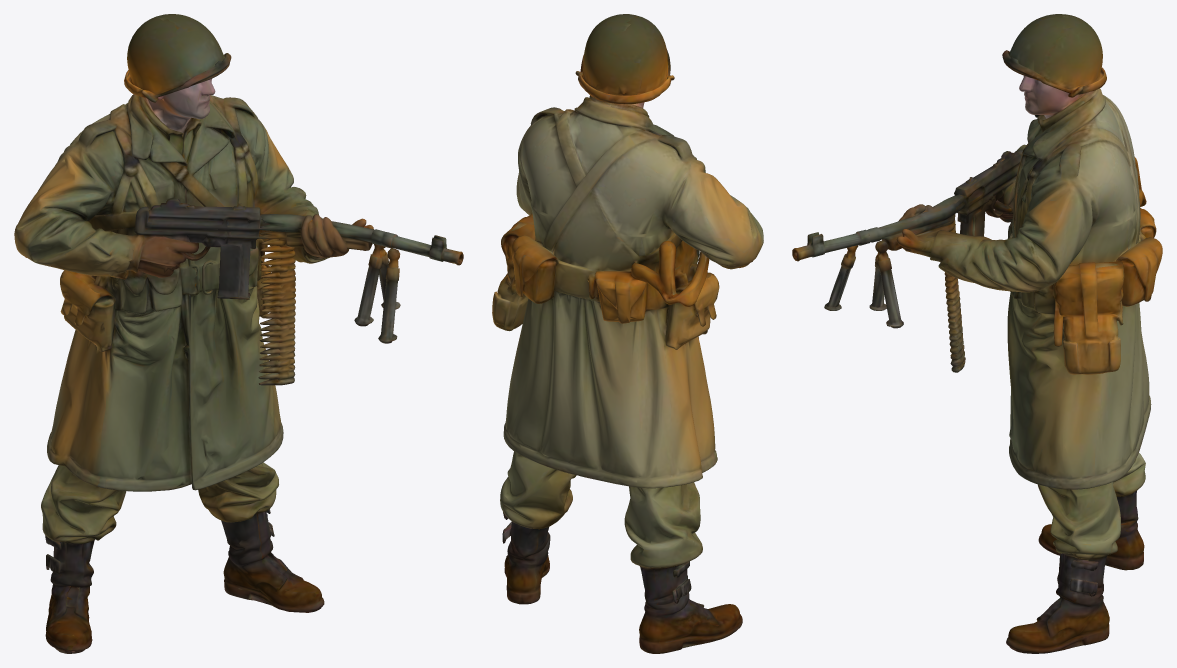
Rendered from char_enemy_mg.glb.
3 views of the same model, side by side, from view 1: azimuth 30°, elevation 25°; view 2: azimuth 150°, elevation 25°; view 3: azimuth 270°, elevation 25° (orthographic). The views are drawn at different scales.
Visible parts, largest first — view 1: material; view 2: material; view 3: material.
Part boxes in pixels (x1=…): material: x1=14, y1=14, x2=463, y2=653; material: x1=492, y1=14, x2=763, y2=653; material: x1=792, y1=14, x2=1162, y2=653.
Bounding box in the file's own units: 0.5366 × 1.04 × 0.6031.
1 material, 1 textured.
